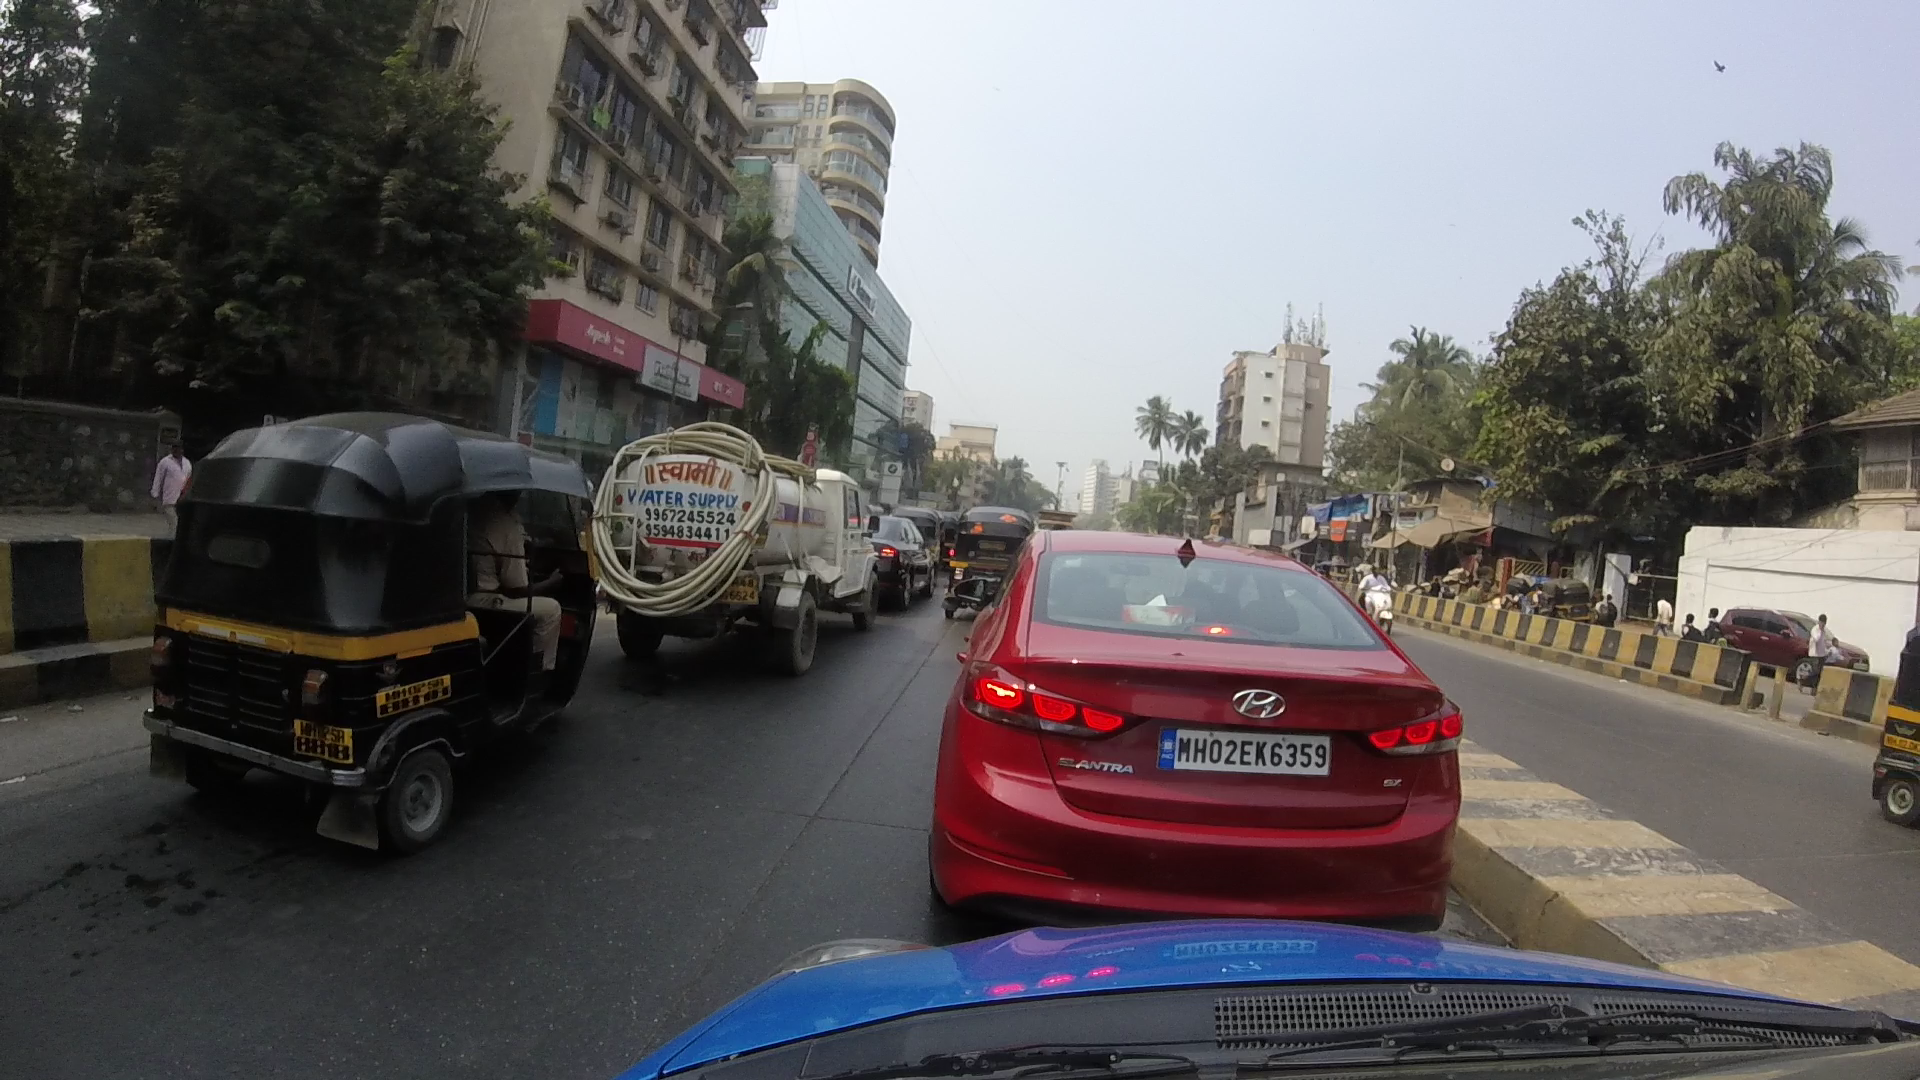car: (931, 520, 1466, 942)
rickshaw: (158, 404, 578, 857), (928, 506, 1025, 613)
truck: (608, 433, 890, 663)
